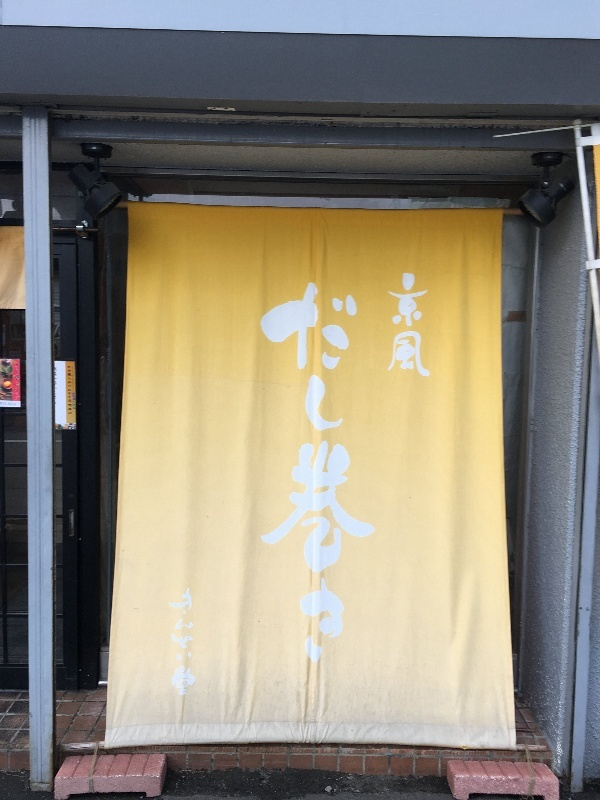text: (273, 270, 288, 668), (289, 270, 304, 668), (305, 270, 320, 668), (321, 270, 336, 668), (337, 270, 352, 668), (353, 270, 368, 668), (259, 270, 272, 668), (369, 270, 378, 668), (417, 271, 433, 382), (177, 586, 192, 700), (401, 271, 416, 382), (387, 271, 400, 382), (168, 586, 176, 700), (66, 361, 80, 425), (1, 359, 16, 408), (193, 586, 197, 700), (17, 359, 22, 408)
